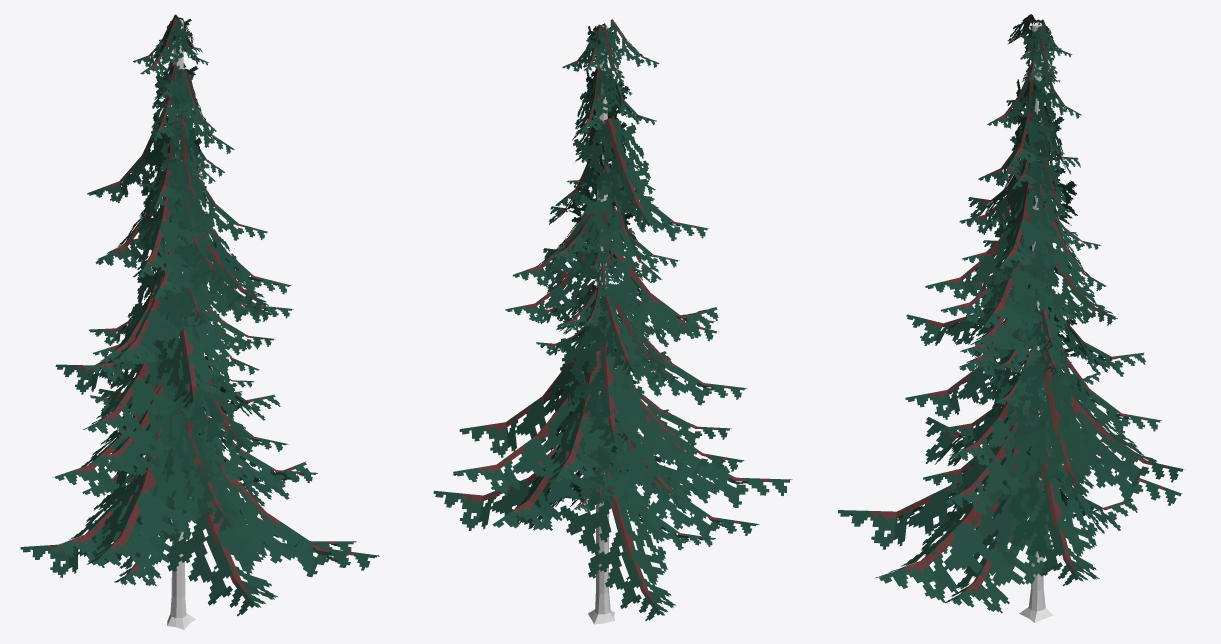
File: PineTree.fbx
3 renders of one model, left to right at view 1: azimuth 30°, elevation 25°; view 2: azimuth 150°, elevation 25°; view 3: azimuth 270°, elevation 25°, orthographic.
Parts seen in each view (by area): view 1: Pine_Branch.029, Pine_Branch.015, Pine_Branch.014, Pine_Branch.069, Pine_Branch.056, Pine_Branch.092, Pine_Branch.060, Pine_Branch.086, Pine_Branch.038, Pine_Branch.039, Pine_Branch.074, Pine_Branch.011 (+30 smaller); view 2: Pine_Branch.007, Pine_Branch.061, Pine_Branch.106, Pine_Branch.029, Pine_Branch.040, Pine_Branch.045, Pine_Branch.036, Pine_Branch.011, Pine_Branch.053, Pine_Branch.038, Pine_Branch.017, Pine_Branch.093 (+24 smaller); view 3: Pine_Branch.014, Pine_Branch.017, Pine_Branch.053, Pine_Branch.040, Pine_Branch.001, Pine_Branch.028, Pine_Branch.015, Pine_Branch.082, Pine_Branch.091, Pine_Branch.060, Pine_Branch.109, Pine_Branch.041 (+26 smaller).
Boxes of the visible parts, x1,y1,x2,y2 form: Pine_Branch.029: (86, 415, 216, 568); Pine_Branch.015: (138, 460, 277, 615); Pine_Branch.014: (172, 460, 379, 577); Pine_Branch.069: (154, 302, 228, 408); Pine_Branch.056: (83, 319, 195, 439); Pine_Branch.092: (133, 169, 206, 277); Pine_Branch.060: (155, 326, 251, 453); Pine_Branch.086: (160, 221, 268, 312); Pine_Branch.038: (52, 380, 189, 495); Pine_Branch.039: (88, 384, 193, 473); Pine_Branch.074: (113, 260, 200, 362); Pine_Branch.011: (48, 454, 174, 567); Pine_Branch.007: (559, 475, 675, 620); Pine_Branch.061: (558, 321, 644, 446); Pine_Branch.106: (573, 118, 658, 229); Pine_Branch.029: (616, 400, 792, 507); Pine_Branch.040: (453, 381, 606, 495); Pine_Branch.045: (547, 352, 633, 481); Pine_Branch.036: (492, 395, 610, 530); Pine_Branch.011: (600, 436, 759, 540); Pine_Branch.053: (459, 346, 585, 457); Pine_Branch.038: (604, 389, 744, 475); Pine_Branch.017: (433, 455, 574, 530); Pine_Branch.093: (579, 181, 662, 282); Pine_Branch.014: (874, 445, 1045, 602); Pine_Branch.017: (997, 447, 1099, 586); Pine_Branch.053: (990, 351, 1094, 499); Pine_Branch.040: (1025, 389, 1183, 486); Pine_Branch.001: (944, 476, 1064, 613); Pine_Branch.028: (940, 409, 1051, 515); Pine_Branch.015: (838, 446, 1030, 549); Pine_Branch.082: (978, 209, 1063, 327); Pine_Branch.091: (995, 173, 1059, 269); Pine_Branch.060: (905, 330, 1027, 419); Pine_Branch.109: (1005, 79, 1057, 169); Pine_Branch.041: (949, 376, 1045, 466).
Bounding box in the file's own units: 2564 × 4833 × 2779.
